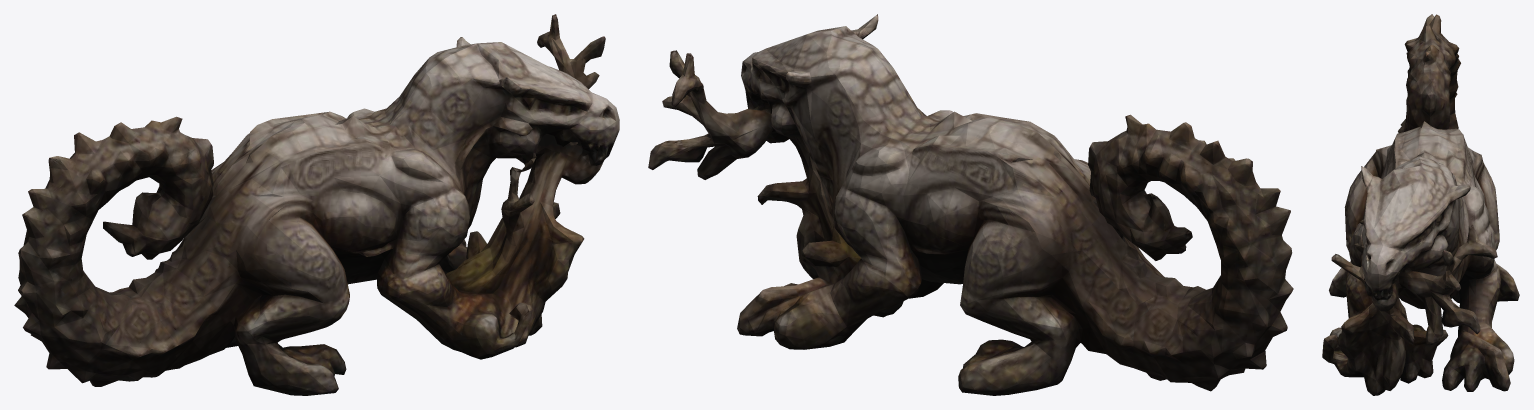
The model's file is rotfang.glb.
The picture shows the model from 3 angles, left to right: view 1: azimuth 30°, elevation 25°; view 2: azimuth 150°, elevation 25°; view 3: azimuth 270°, elevation 25°; orthographic projection. The views are drawn at different scales.
Visible parts, largest first — view 1: world; view 2: world; view 3: world.
Part boxes in pixels (x1,y1,x2,y2): world: [14, 14, 619, 395]; world: [648, 14, 1293, 395]; world: [1322, 14, 1519, 395].
Bounding box in the file's own units: 1 × 0.4426 × 0.3561.
Materials: 1 (1 with a texture image).
